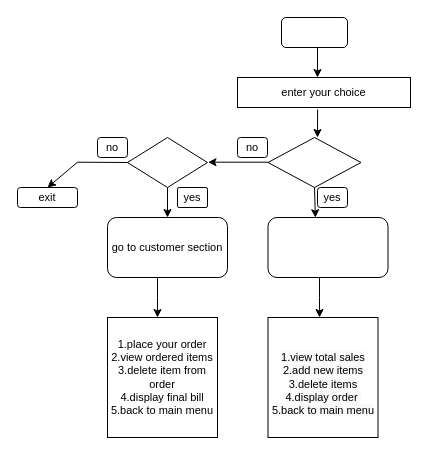
This 428x455 diagram has some shape labels left out. Each missing label, with the box of its shape:
go to admin section: (267, 216, 388, 278)
if choice=1: (267, 136, 361, 188)
if choice=2: (126, 136, 208, 188)
Start: (280, 16, 348, 48)
